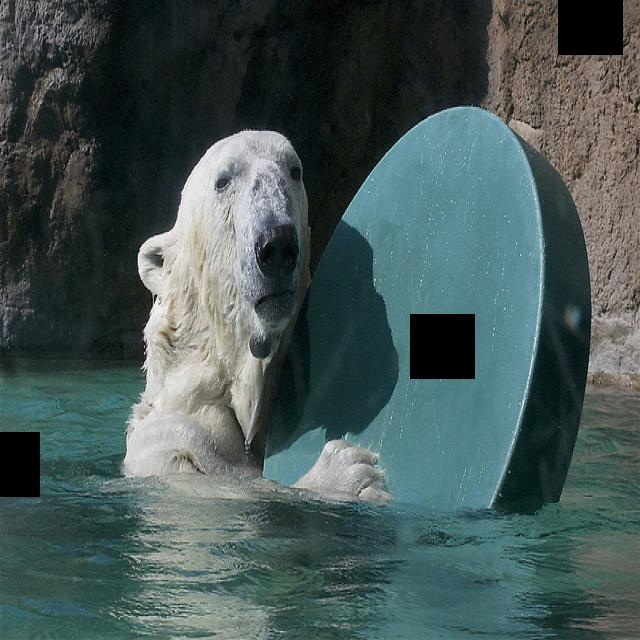Bear: (106, 115, 390, 516)
